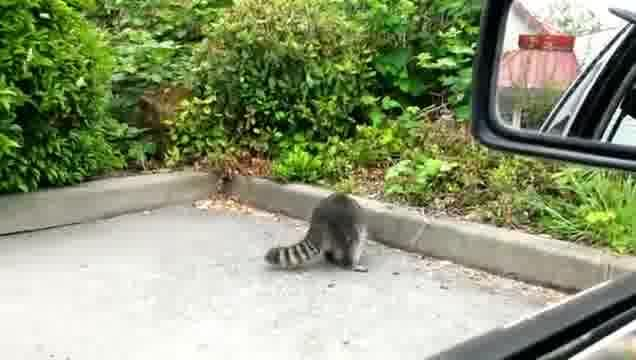raccoon: (265, 193, 370, 274)
